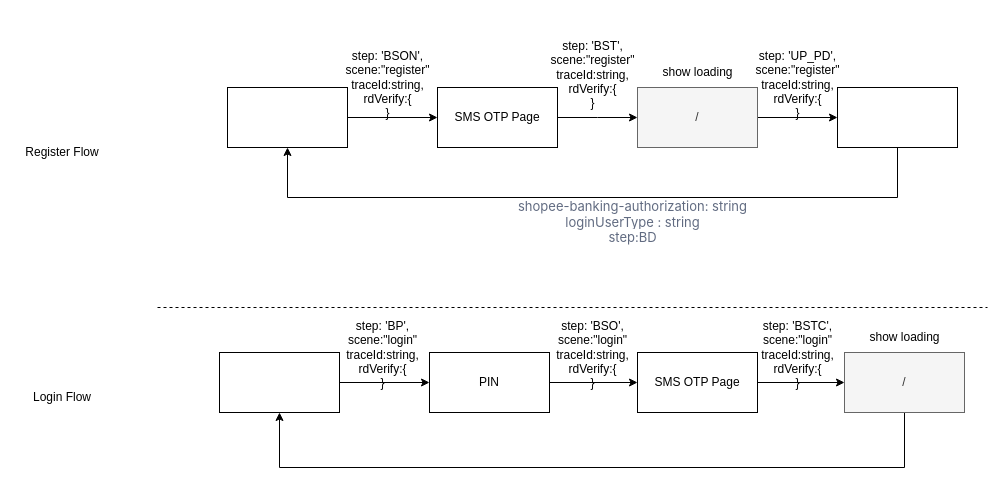
The diagram is 1006 pixels wide and 493 high, and some of its shapes have lost their labels. Each missing label, with the box of its shape:
Create PW Page: (836, 86, 958, 148)
login: (218, 352, 340, 412)
Register: (226, 86, 348, 148)
